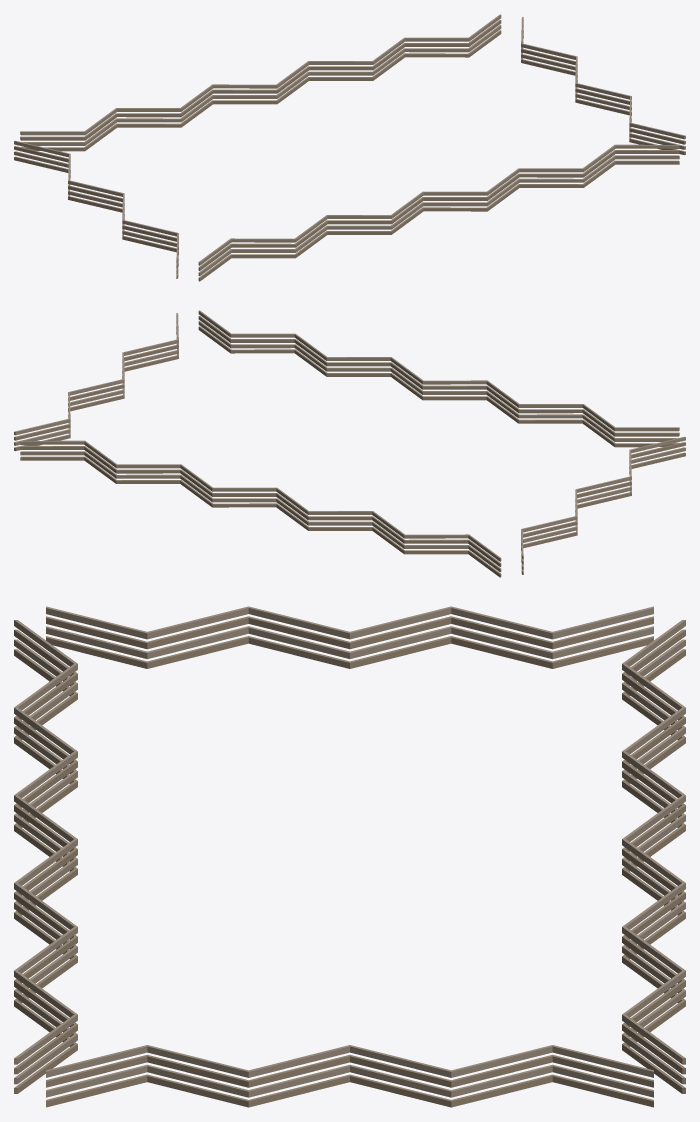
The model's file is coursoll_field_1812__coursoll_1808.glb.
3 views of the same model, one above another, from view 1: azimuth 30°, elevation 25°; view 2: azimuth 150°, elevation 25°; view 3: azimuth 270°, elevation 25° (orthographic). The views are drawn at different scales.
Visible parts, largest first — view 1: coursoll_field_1812__coursoll_1808; view 2: coursoll_field_1812__coursoll_1808; view 3: coursoll_field_1812__coursoll_1808.
Part boxes in pixels (box(x1,y1,x2,y2)): coursoll_field_1812__coursoll_1808: box(14, 14, 685, 281); coursoll_field_1812__coursoll_1808: box(14, 310, 685, 577); coursoll_field_1812__coursoll_1808: box(14, 606, 685, 1107).
Size of the model in its own units: 32.91 by 1.18 by 20.08.
